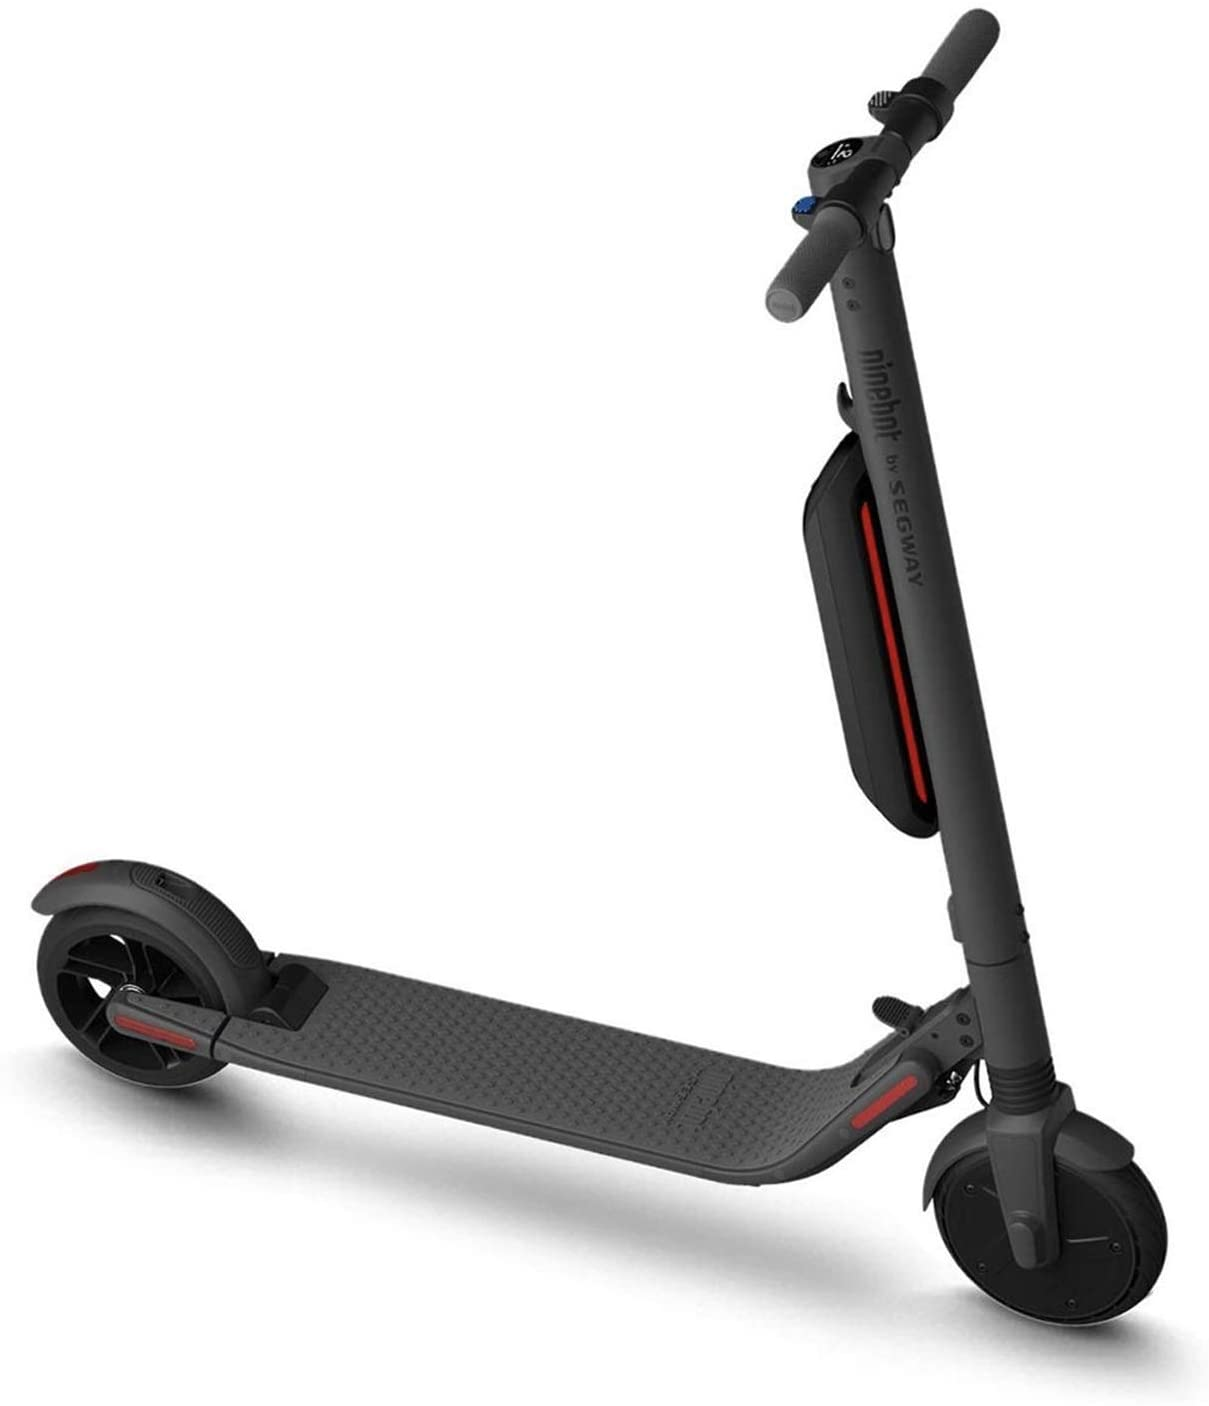scooter: (17, 1, 1180, 1346)
